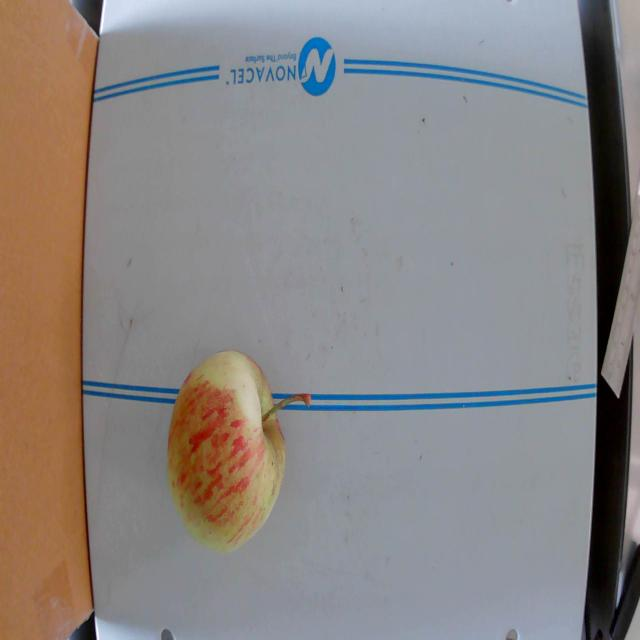apple: (168, 350, 312, 555)
